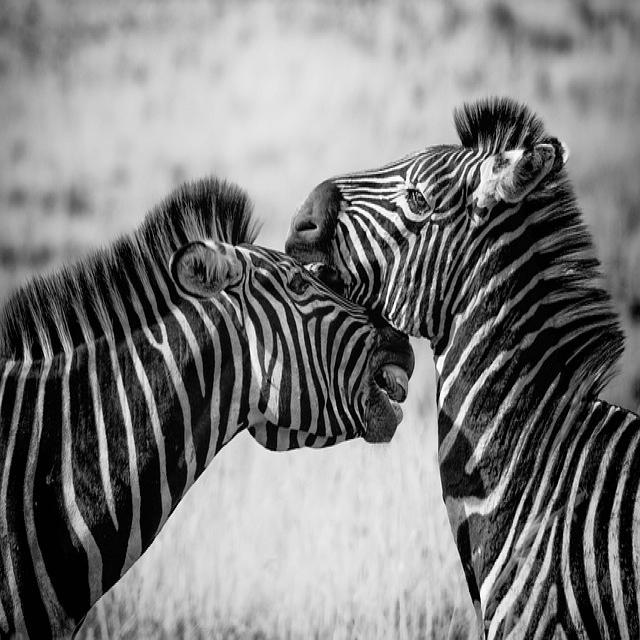Herbivorous: (285, 97, 640, 640), (0, 178, 415, 640)
